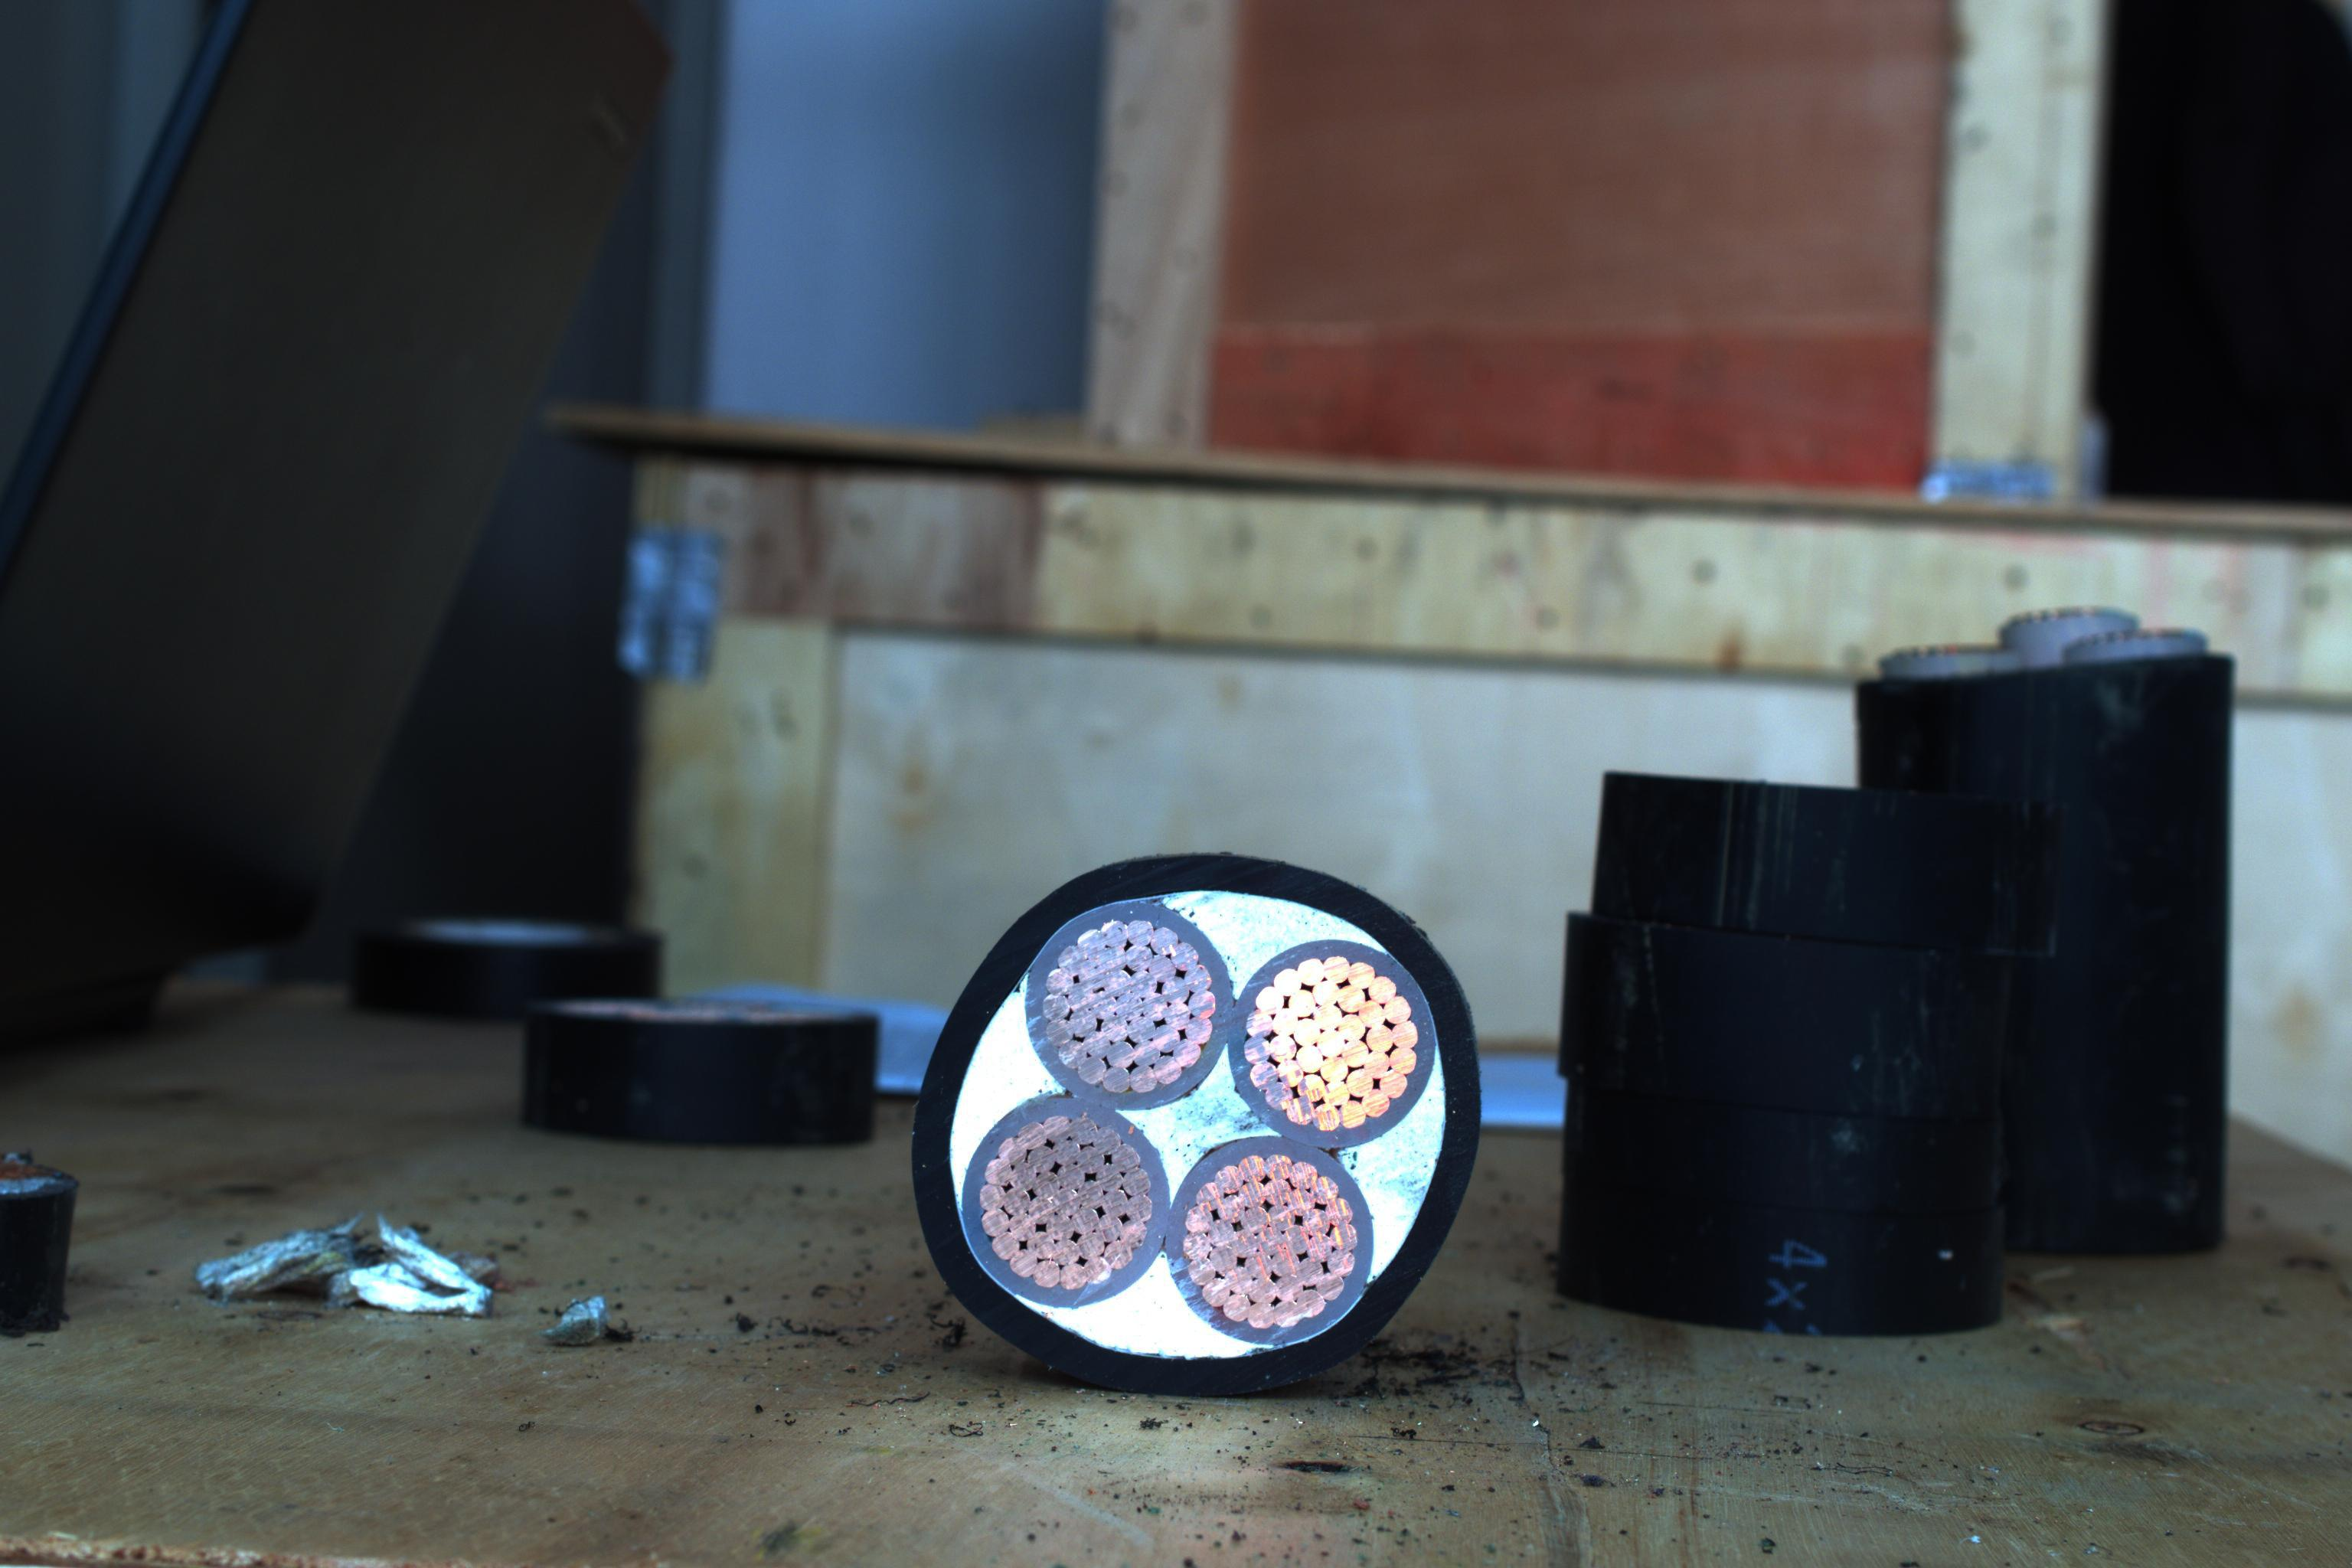YJV_0.6_1kV_4x240: (913, 856, 1479, 1386)
